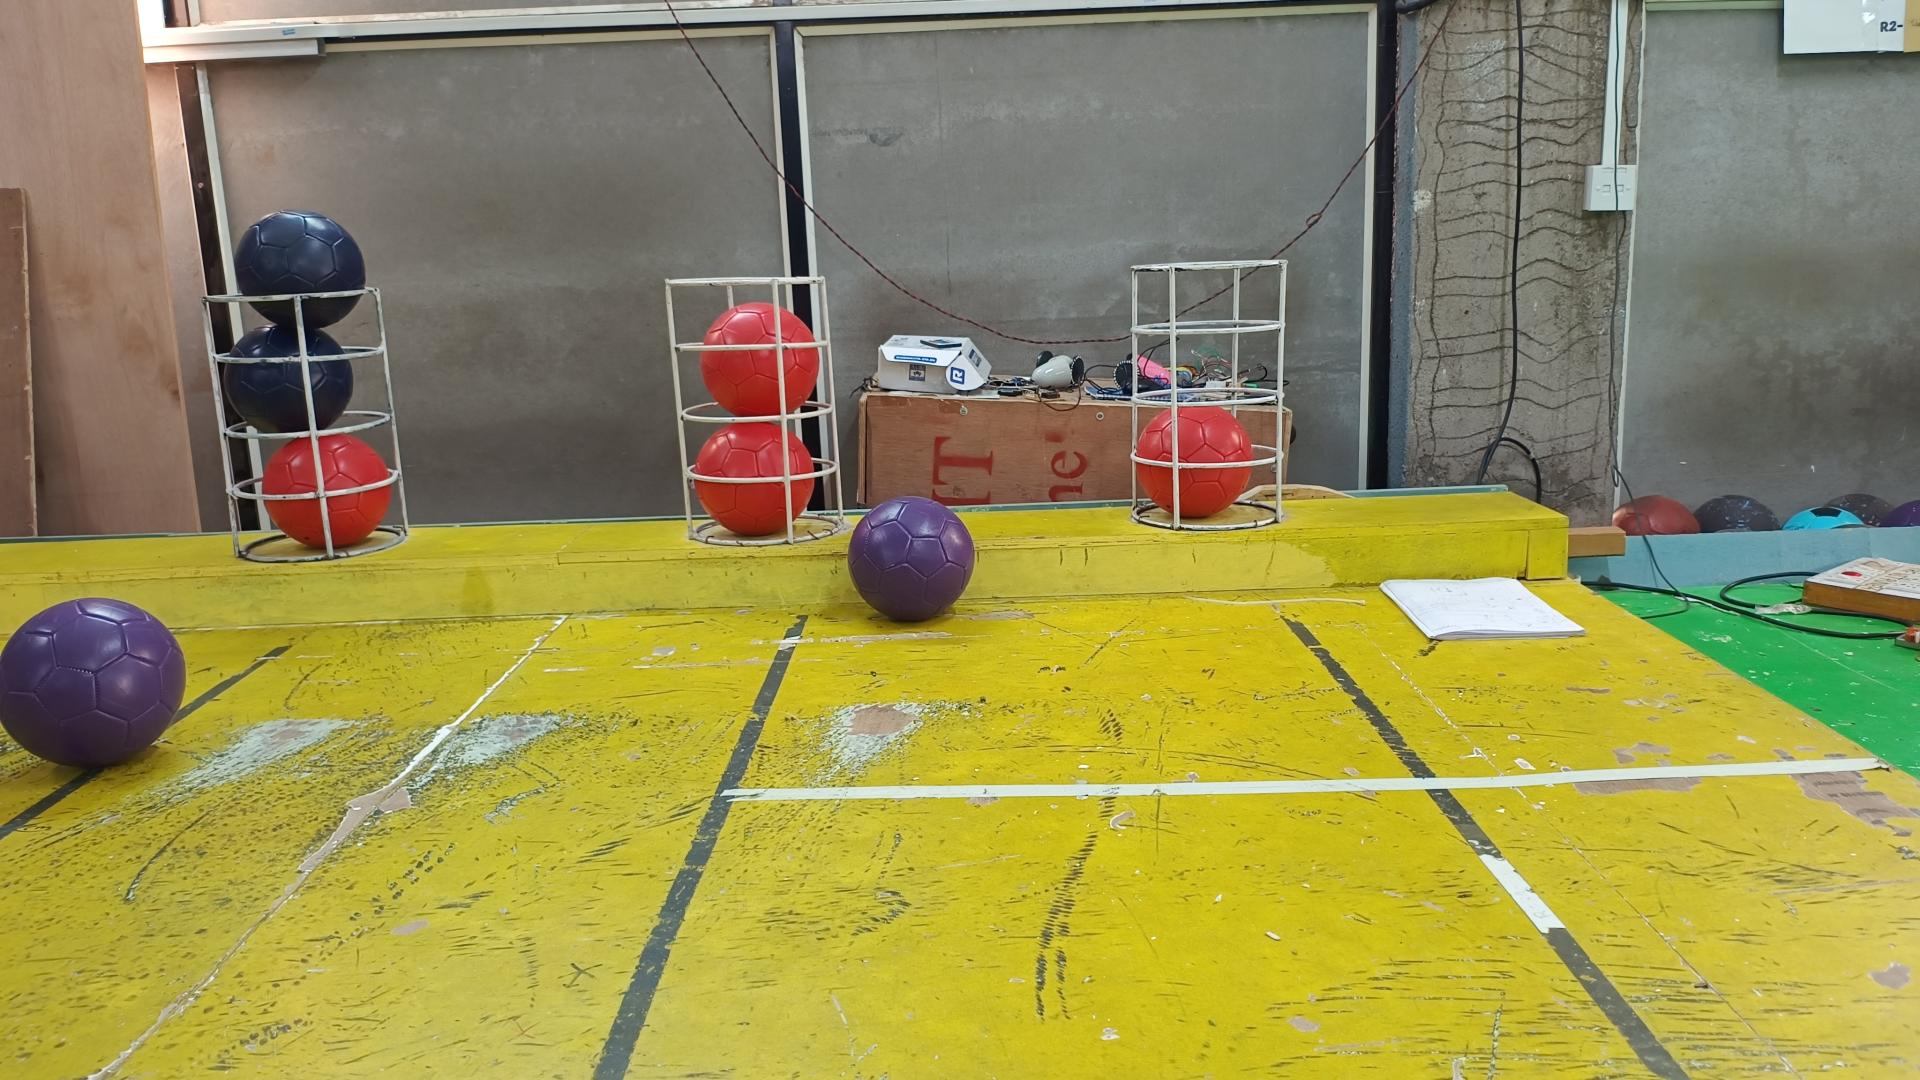dhoka: (235, 211, 367, 331), (223, 322, 355, 431)
laale: (260, 430, 392, 547), (691, 421, 815, 537), (700, 301, 820, 417), (1133, 406, 1253, 518)
